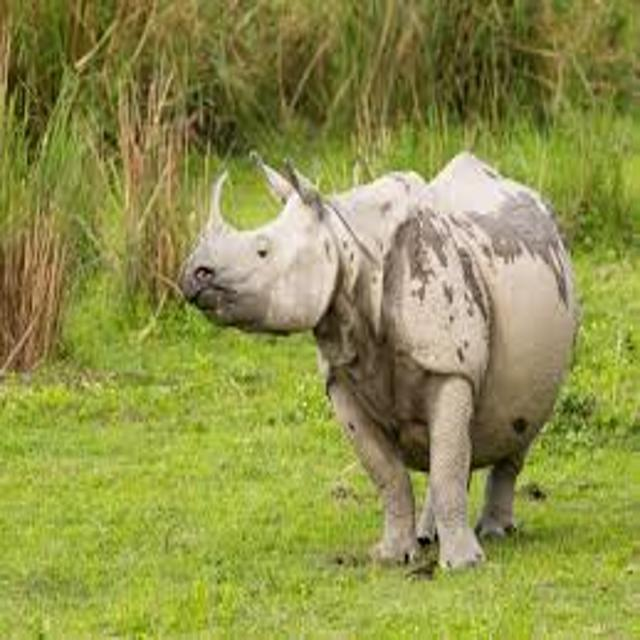Rinoceros: (154, 134, 611, 608)
